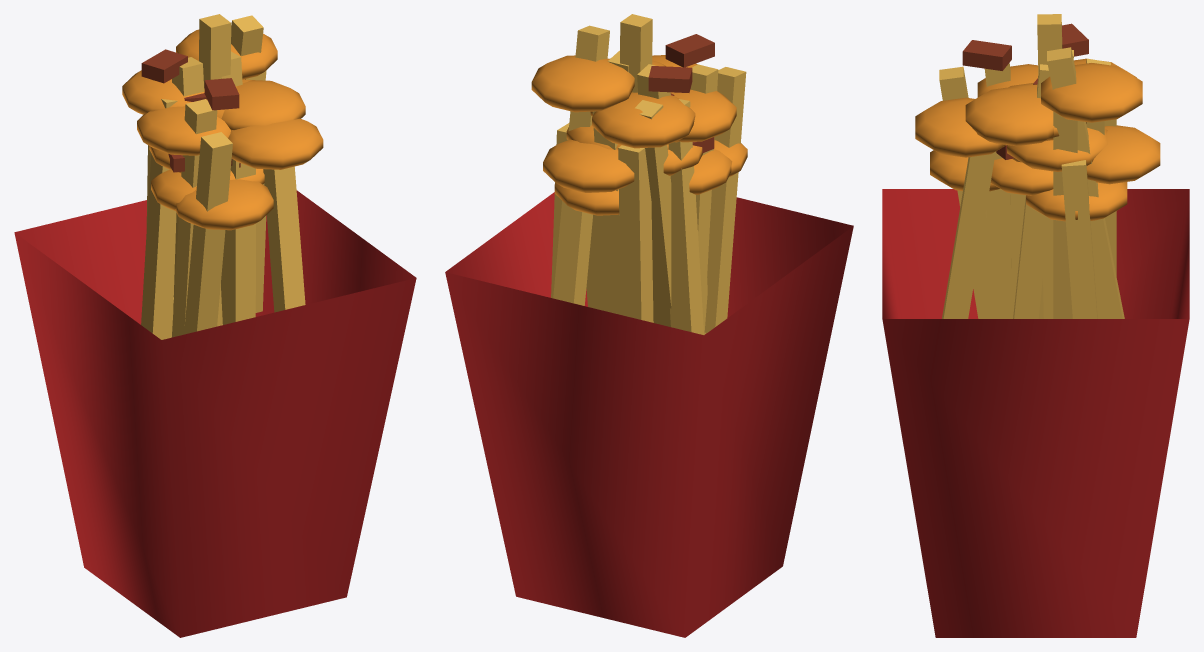
Rendered from papas-cheddar.glb.
3 views of the same model, side by side, from view 1: azimuth 30°, elevation 25°; view 2: azimuth 150°, elevation 25°; view 3: azimuth 270°, elevation 25° (orthographic). The views are drawn at different scales.
Size of the model in its own units: 0.0769 by 0.16 by 0.0769.
